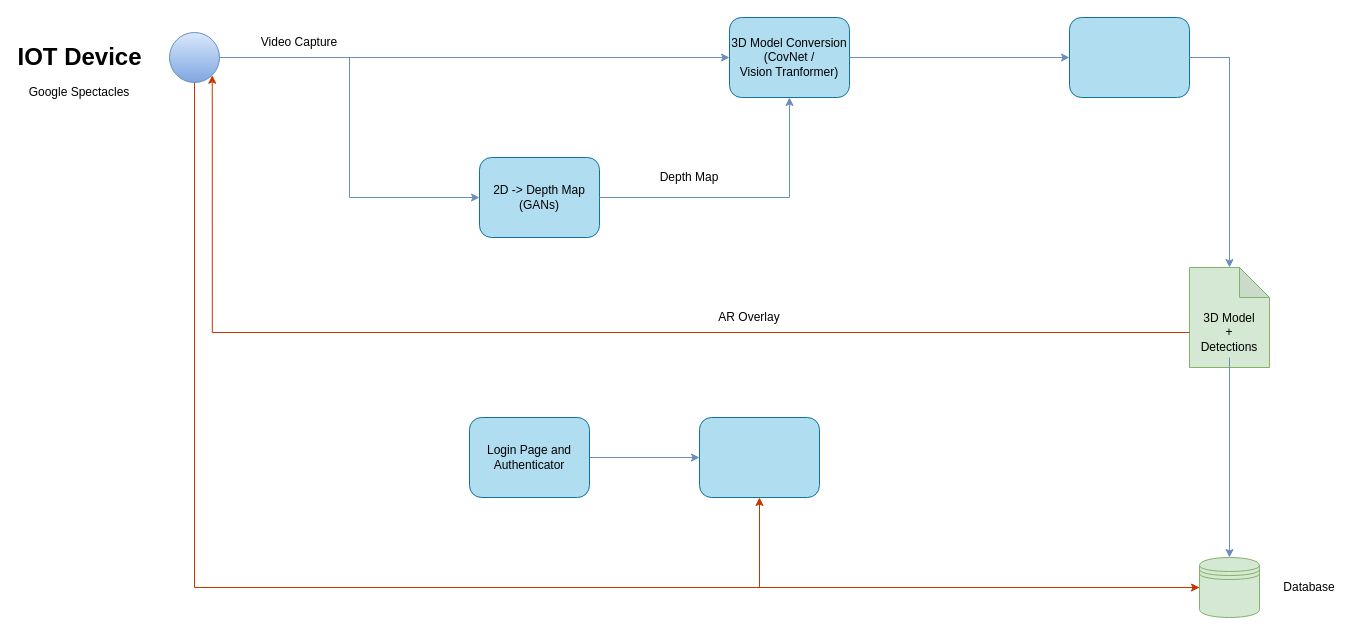
Some shapes in this 1366 by 635 pixel diagram are drawn without their labels. The box of each missing label's shape, as (x1, y1, x2, y2) in pixels:
Anomaly Detection (Yolo v7): (1068, 16, 1190, 98)
Frontend: (698, 416, 820, 498)
